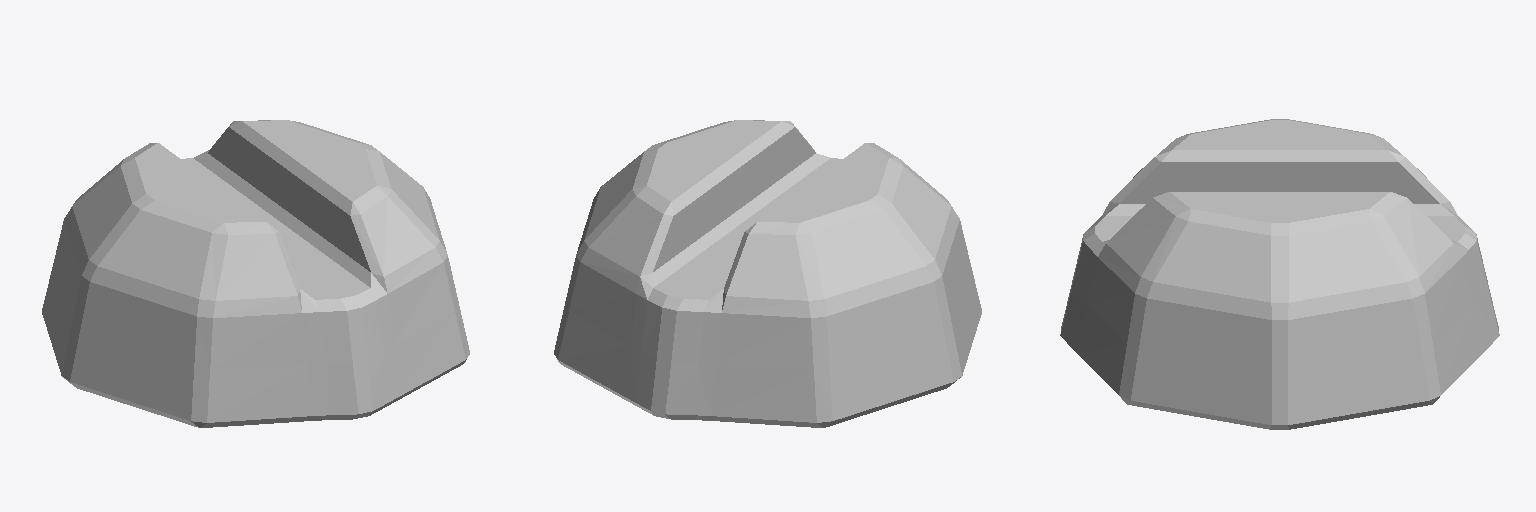
Rendered from Lever_Base.obj.
3 views of the same model, side by side, from view 1: azimuth 30°, elevation 25°; view 2: azimuth 150°, elevation 25°; view 3: azimuth 270°, elevation 25° (orthographic).
Visible parts, largest first — view 1: Lever_Base; view 2: Lever_Base; view 3: Lever_Base.
Boxes of the visible parts, box(x1,y1,x2,y2) form: Lever_Base: box(42, 120, 469, 427); Lever_Base: box(554, 120, 981, 427); Lever_Base: box(1060, 119, 1499, 429).
Size of the model in its own units: 2.36 by 1 by 2.36.